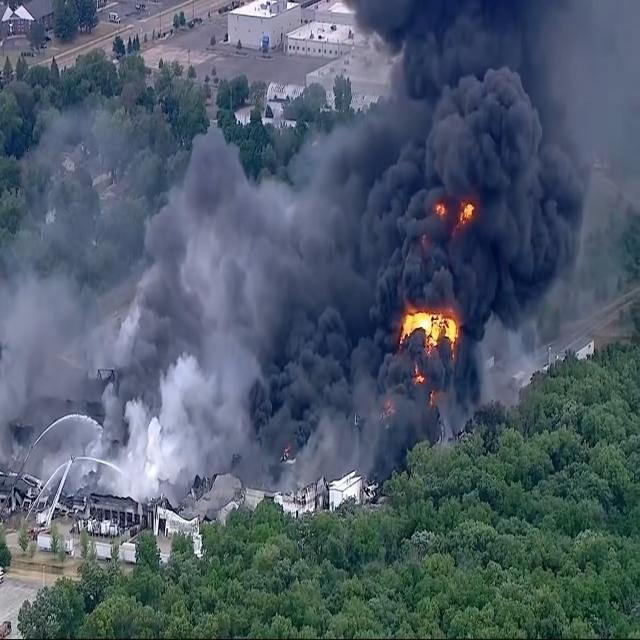Fire: (395, 309, 465, 368), (415, 199, 480, 237)
Smoke: (258, 0, 587, 468), (81, 117, 345, 498)
